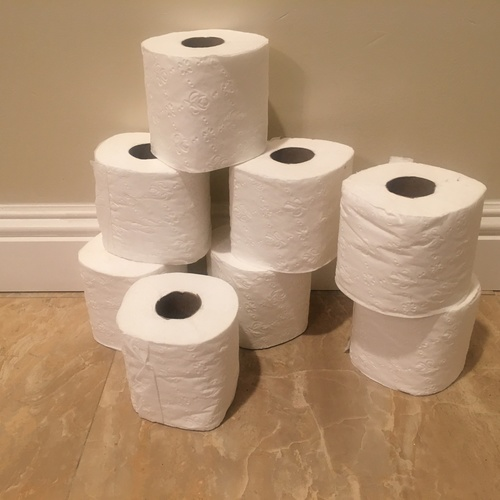roll: (335, 162, 488, 317), (115, 272, 240, 431), (141, 26, 269, 173), (227, 135, 355, 276), (348, 271, 481, 396), (95, 131, 211, 265), (78, 231, 188, 354), (207, 224, 310, 349)
